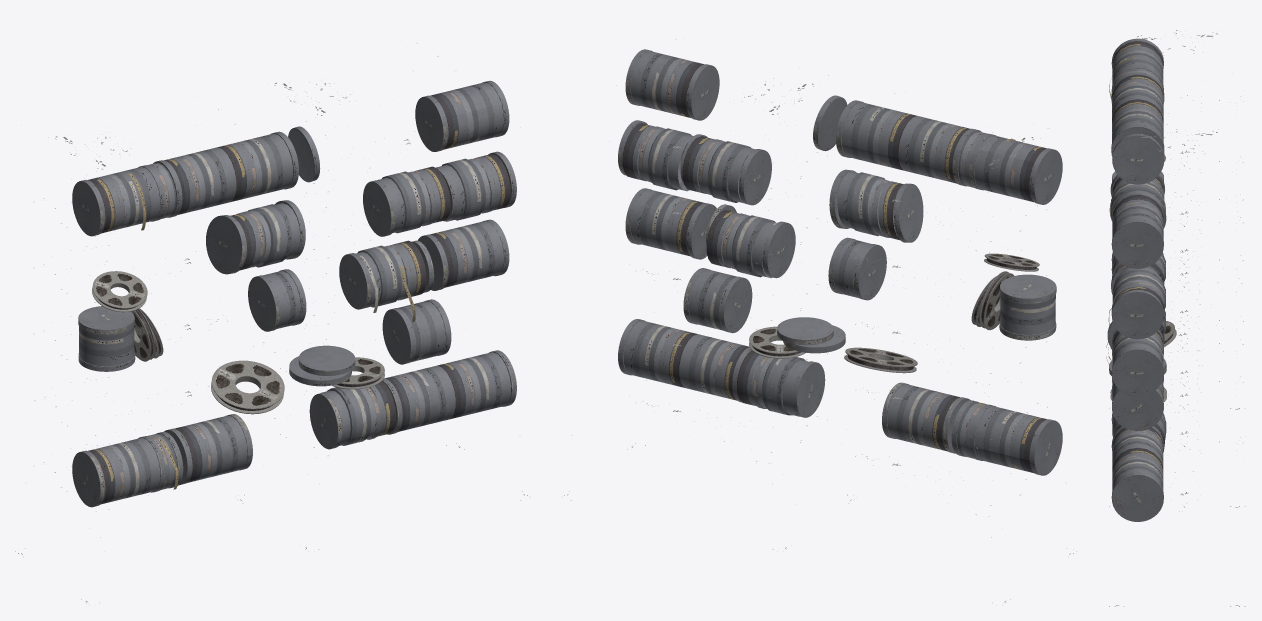
Rendered from sm39_022_filmandshelf01a.fbx.
3 renders of one model, left to right at view 1: azimuth 30°, elevation 25°; view 2: azimuth 150°, elevation 25°; view 3: azimuth 270°, elevation 25°, orthographic. The views are drawn at different scales.
Visible parts, largest first — view 1: LOD_1_Group_0_Sub_2__sm36_021_FilmReel01A_A_Mat; view 2: LOD_1_Group_0_Sub_2__sm36_021_FilmReel01A_A_Mat; view 3: LOD_1_Group_0_Sub_2__sm36_021_FilmReel01A_A_Mat, LOD_1_Group_0_Sub_1__sm30_048_IronShelf01A_A_Mat.
Boxes of the visible parts, box(x1,y1,x2,y2) form: LOD_1_Group_0_Sub_2__sm36_021_FilmReel01A_A_Mat: box(72, 80, 516, 507); LOD_1_Group_0_Sub_2__sm36_021_FilmReel01A_A_Mat: box(618, 49, 1062, 475); LOD_1_Group_0_Sub_2__sm36_021_FilmReel01A_A_Mat: box(1106, 38, 1176, 521); LOD_1_Group_0_Sub_1__sm30_048_IronShelf01A_A_Mat: box(1109, 30, 1245, 606).
Bounding box in the file's own units: 2.65 × 2.47 × 0.8027.
